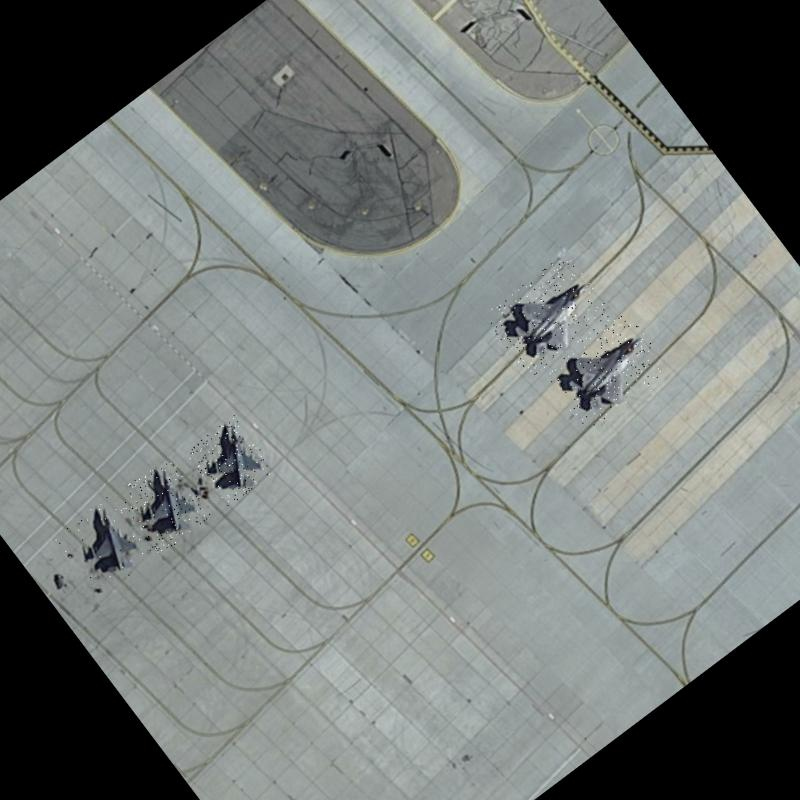A15: (482, 252, 616, 380), (543, 309, 672, 432)
A5: (52, 492, 157, 598), (114, 455, 213, 556), (185, 415, 276, 508)
